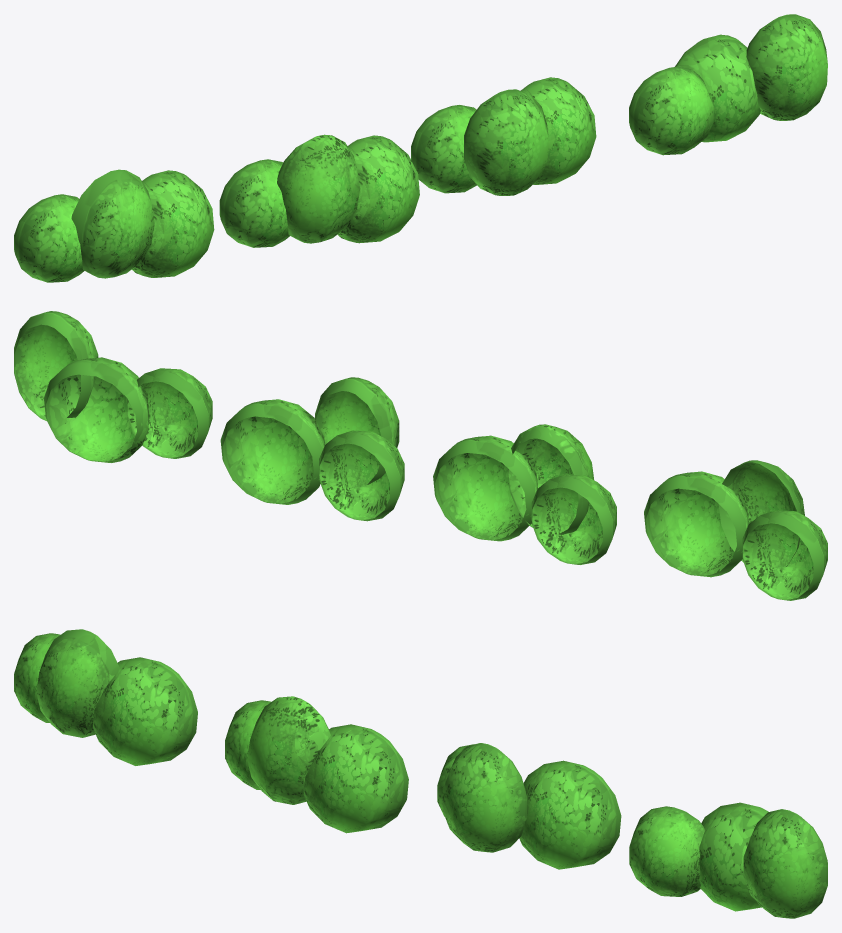
File: bush.fbx
3 renders of one model, top to bottom at view 1: azimuth 30°, elevation 25°; view 2: azimuth 150°, elevation 25°; view 3: azimuth 330°, elevation 25°, orthographic. The views are drawn at different scales.
Parts seen in each view (by area): view 1: Sphere.009; view 2: Sphere.009; view 3: Sphere.009.
Boxes of the visible parts, bbox=[...] form: Sphere.009: bbox=[14, 14, 827, 282]; Sphere.009: bbox=[14, 311, 827, 600]; Sphere.009: bbox=[14, 629, 827, 918].
Size of the model in its own units: 35.49 by 5.73 by 4.21.
